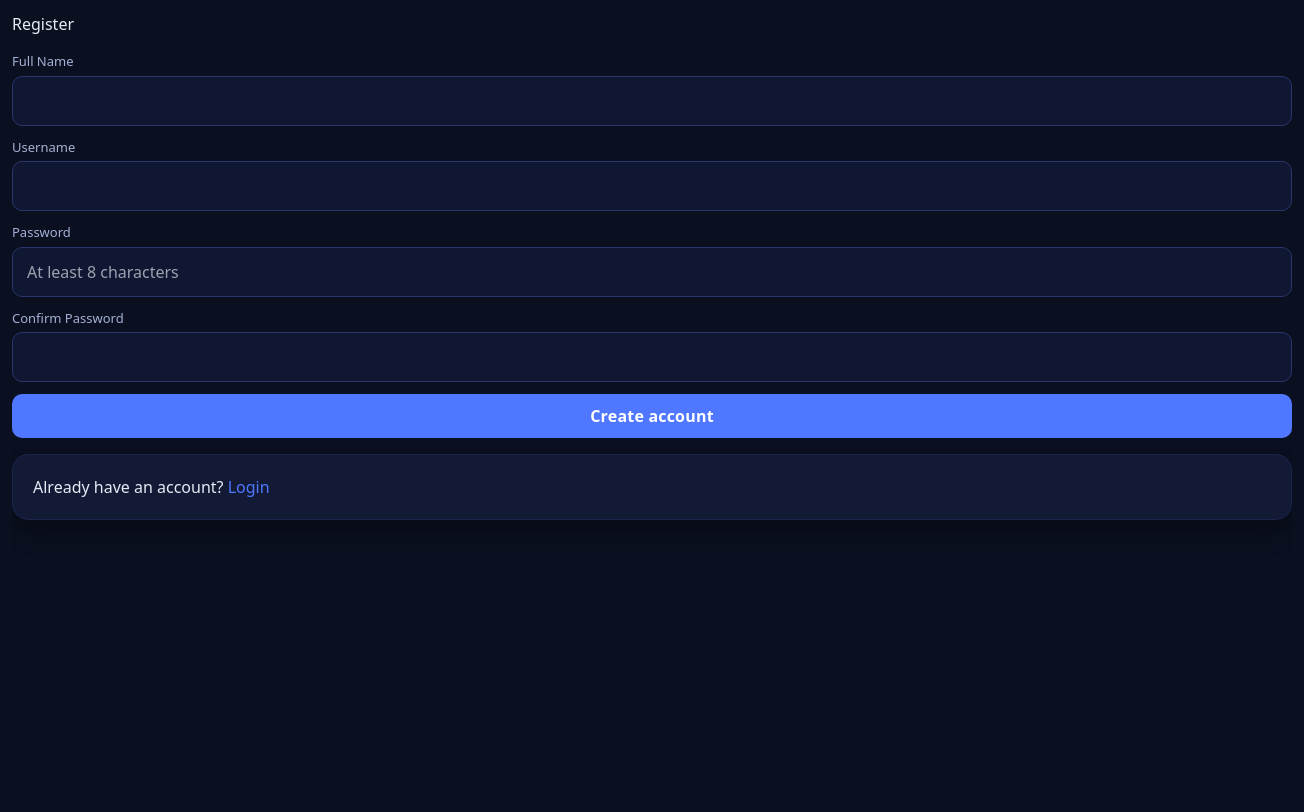
Test case: RegisterPage validation › rejects password shorter than 8
The width and height of the screenshot is (1304, 812).
Type "John Doe" into the field labelled "Full Name".
click(652, 100); type("John Doe")  # box top-left (12, 76), bottom-right (1292, 126)
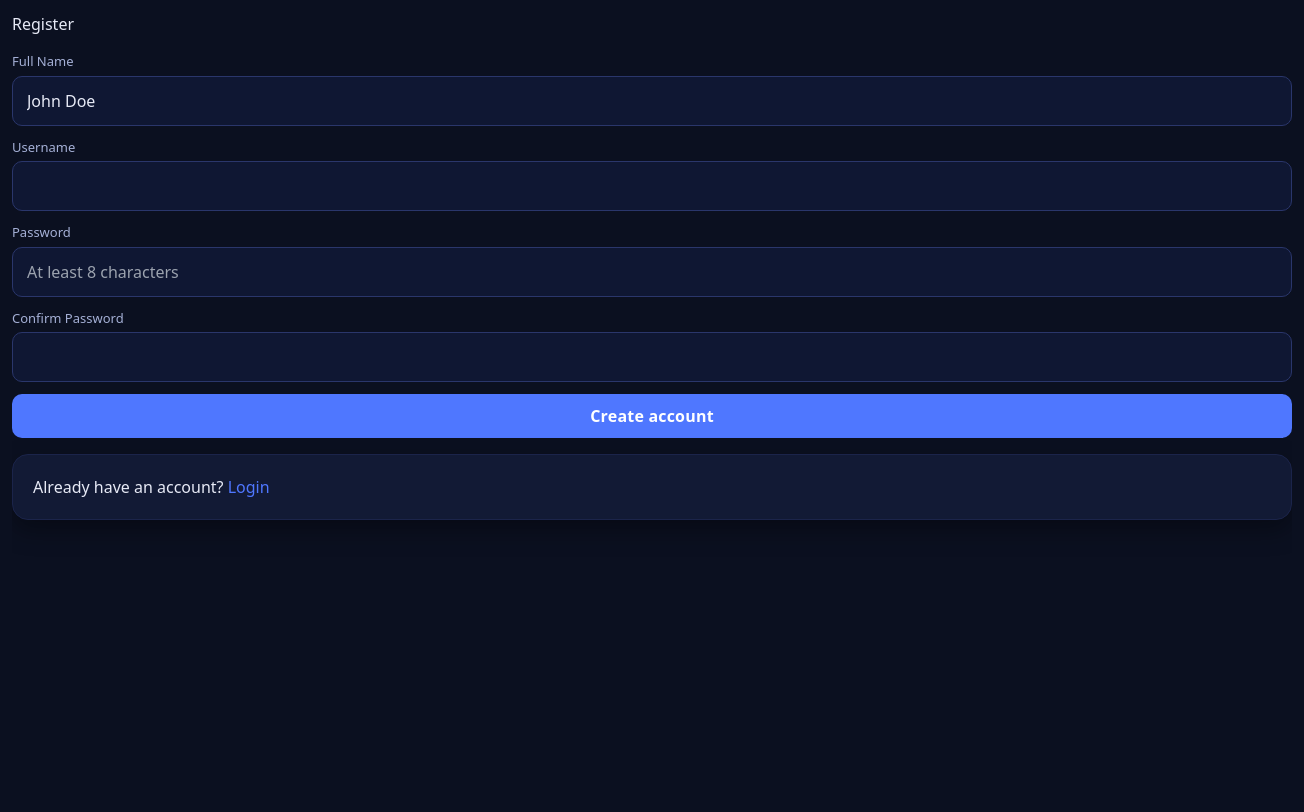
Type "john" into the field labelled "Username".
click(652, 186); type("john")  # box top-left (12, 161), bottom-right (1292, 211)
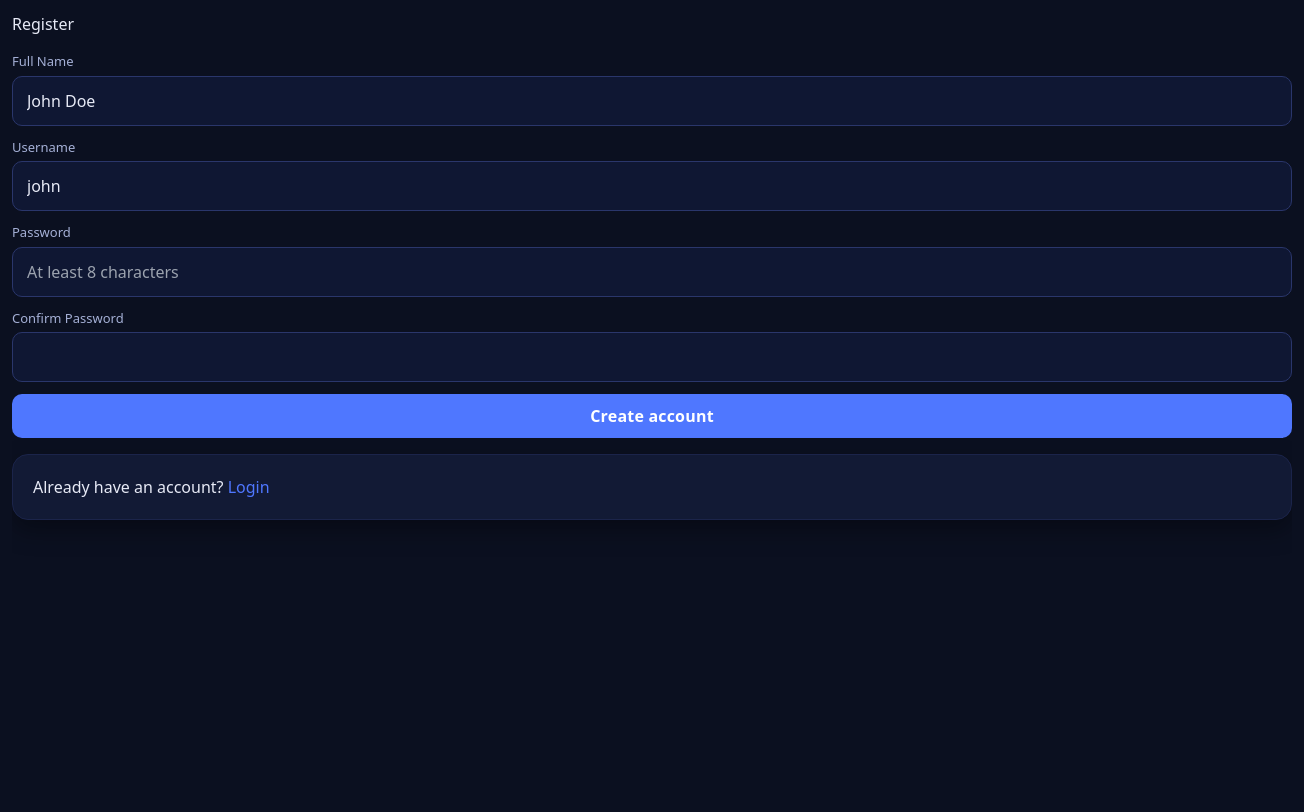
Type "short" into the password field labelled "Password".
click(652, 272); type("short")  # box top-left (12, 246), bottom-right (1292, 296)
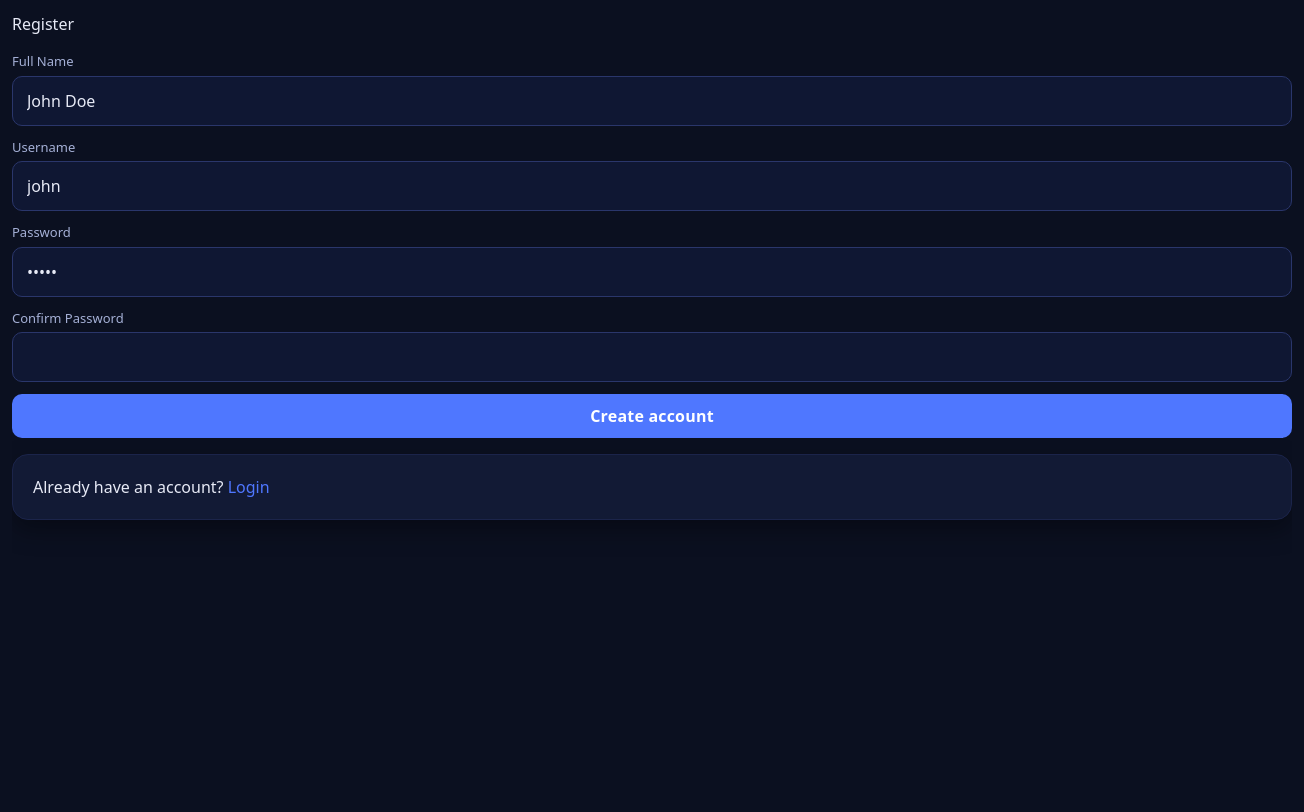
Type "short" into the password field labelled "Confirm Password".
click(652, 357); type("short")  # box top-left (12, 332), bottom-right (1292, 382)
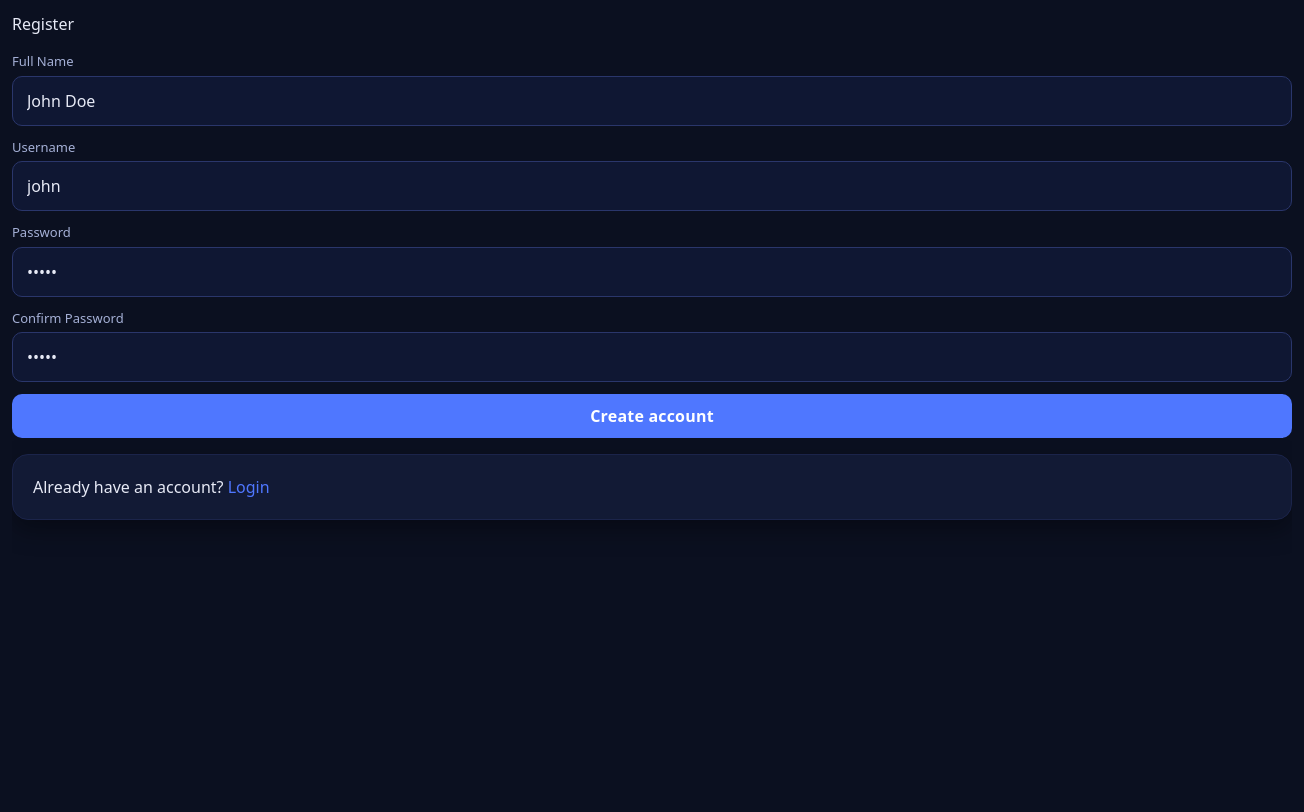
Click the button "Create account".
click(652, 416)  # box top-left (12, 394), bottom-right (1292, 438)
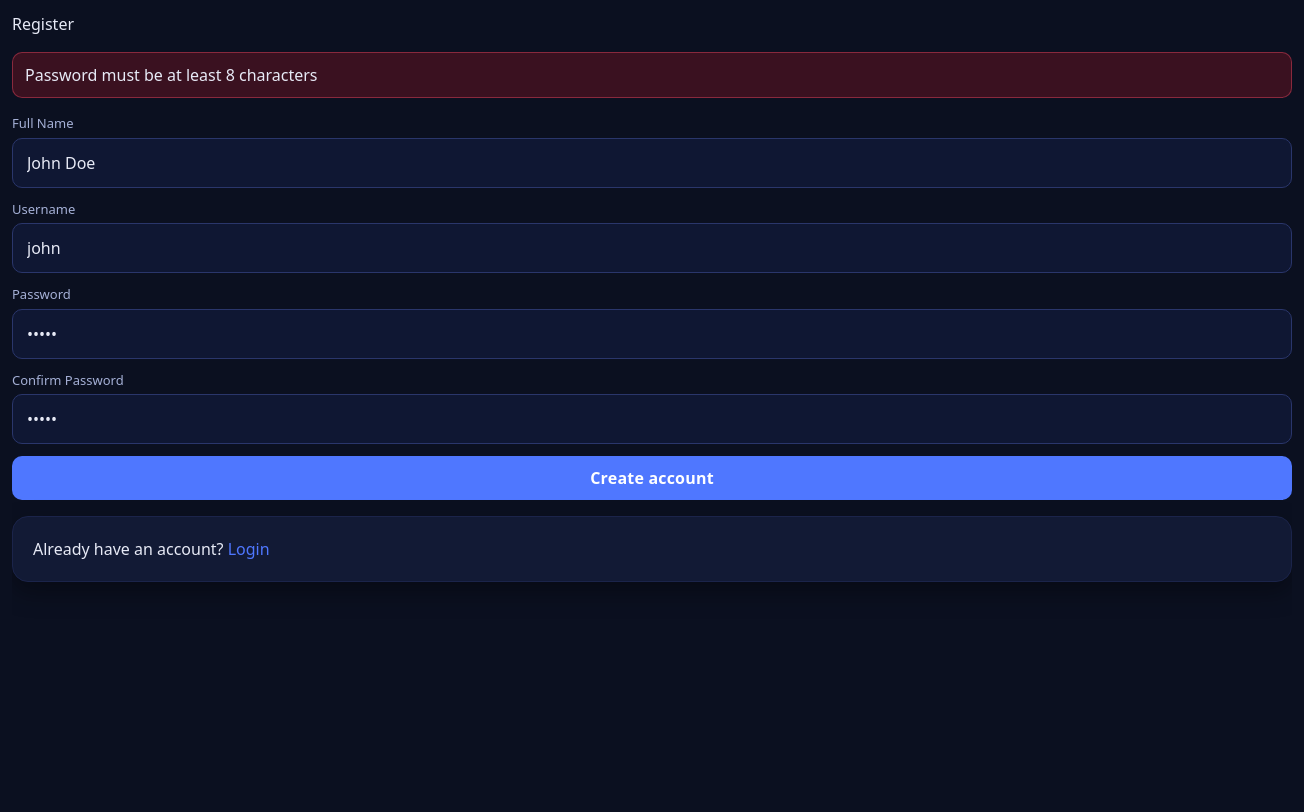
Now the text "Password must be at least 8 characters" is shown, box top-left (12, 52), bottom-right (1292, 98)
